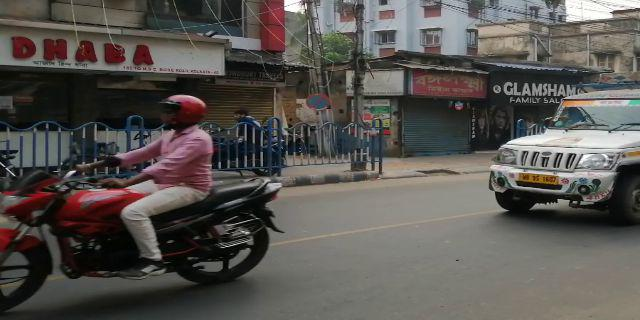Car: (485, 83, 640, 225)
Motorbike: (2, 92, 283, 304)
